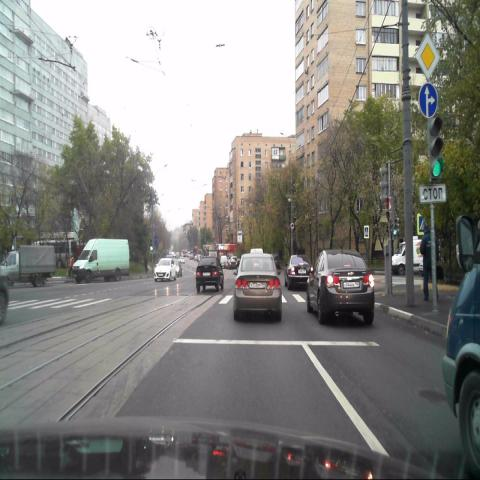4_1_4: (419, 83, 438, 118)
